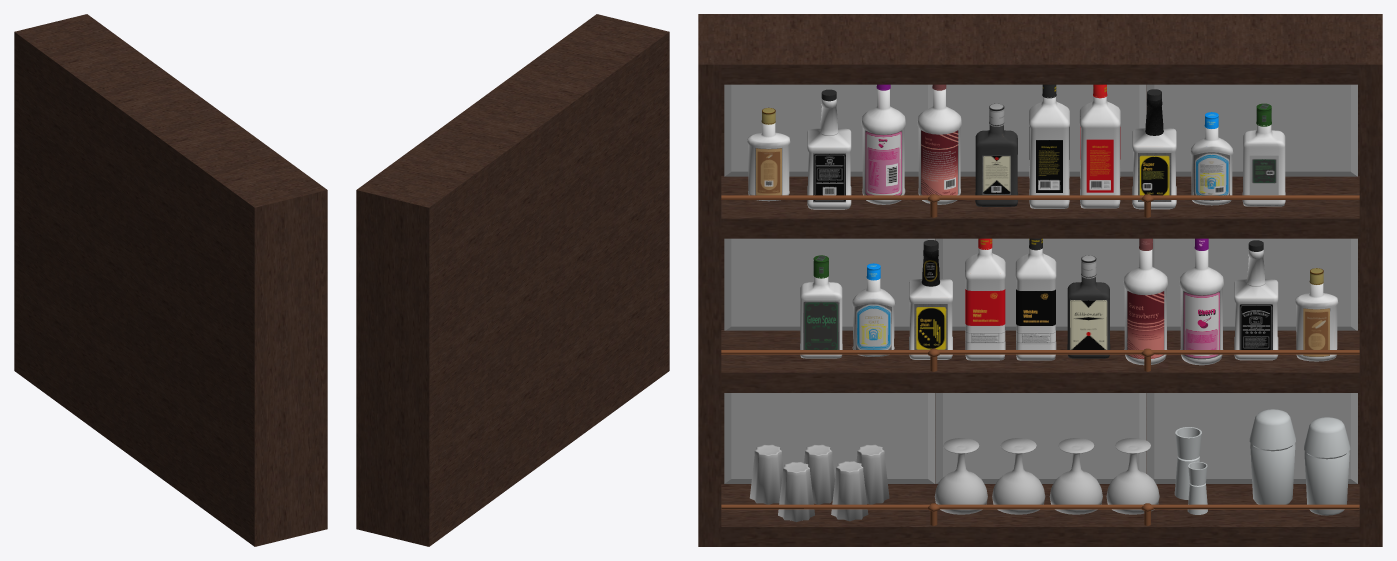
The model's file is BaeFin.obj.
3 views of the same model, side by side, from view 1: azimuth 30°, elevation 25°; view 2: azimuth 150°, elevation 25°; view 3: azimuth 270°, elevation 25° (orthographic). The views are drawn at different scales.
Parts seen in each view (by area): view 1: Cylinder004; view 2: Cylinder004; view 3: Cylinder004, Object014, Object013, Object003, Object004, Object010, Object006, Object019, Object016, Object008, Object017, Object002 (+22 smaller).
Boxes of the visible parts, box(x1,y1,x2,y2) form: Cylinder004: box(14, 14, 327, 546); Cylinder004: box(356, 14, 669, 546); Cylinder004: box(698, 14, 1382, 546); Object014: box(1029, 84, 1069, 208); Object013: box(1079, 84, 1120, 208); Object003: box(965, 238, 1005, 360); Object004: box(1015, 238, 1056, 360); Object010: box(1179, 238, 1223, 365); Object006: box(1123, 238, 1167, 365); Object019: box(861, 84, 905, 204); Object016: box(917, 84, 961, 204); Object008: box(1234, 240, 1278, 360); Object017: box(807, 89, 851, 209); Object002: box(909, 240, 952, 359).
Bounding box in the file's own units: 200 × 884 × 1136.
5 materials, 5 textured.
